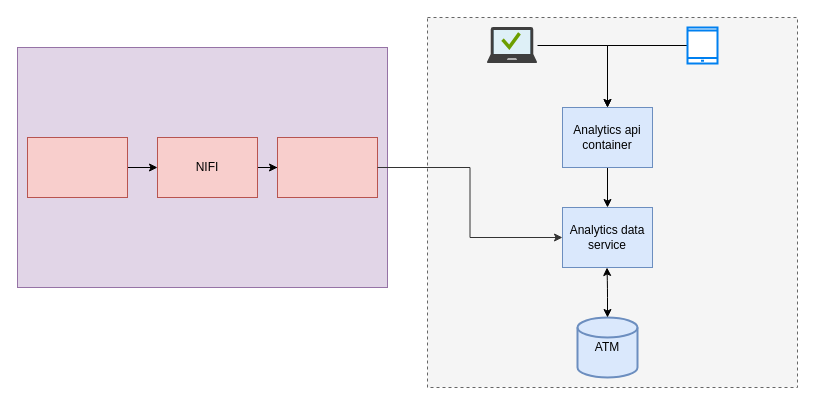
Image size: 815x405. Some labels were removed from this diagram. Here are the shapes that lost their labels. From the top down, the centre of each, then its label:
At point 77,167: "DF Kafka".
At point 327,167: "Analytics Kafka".
